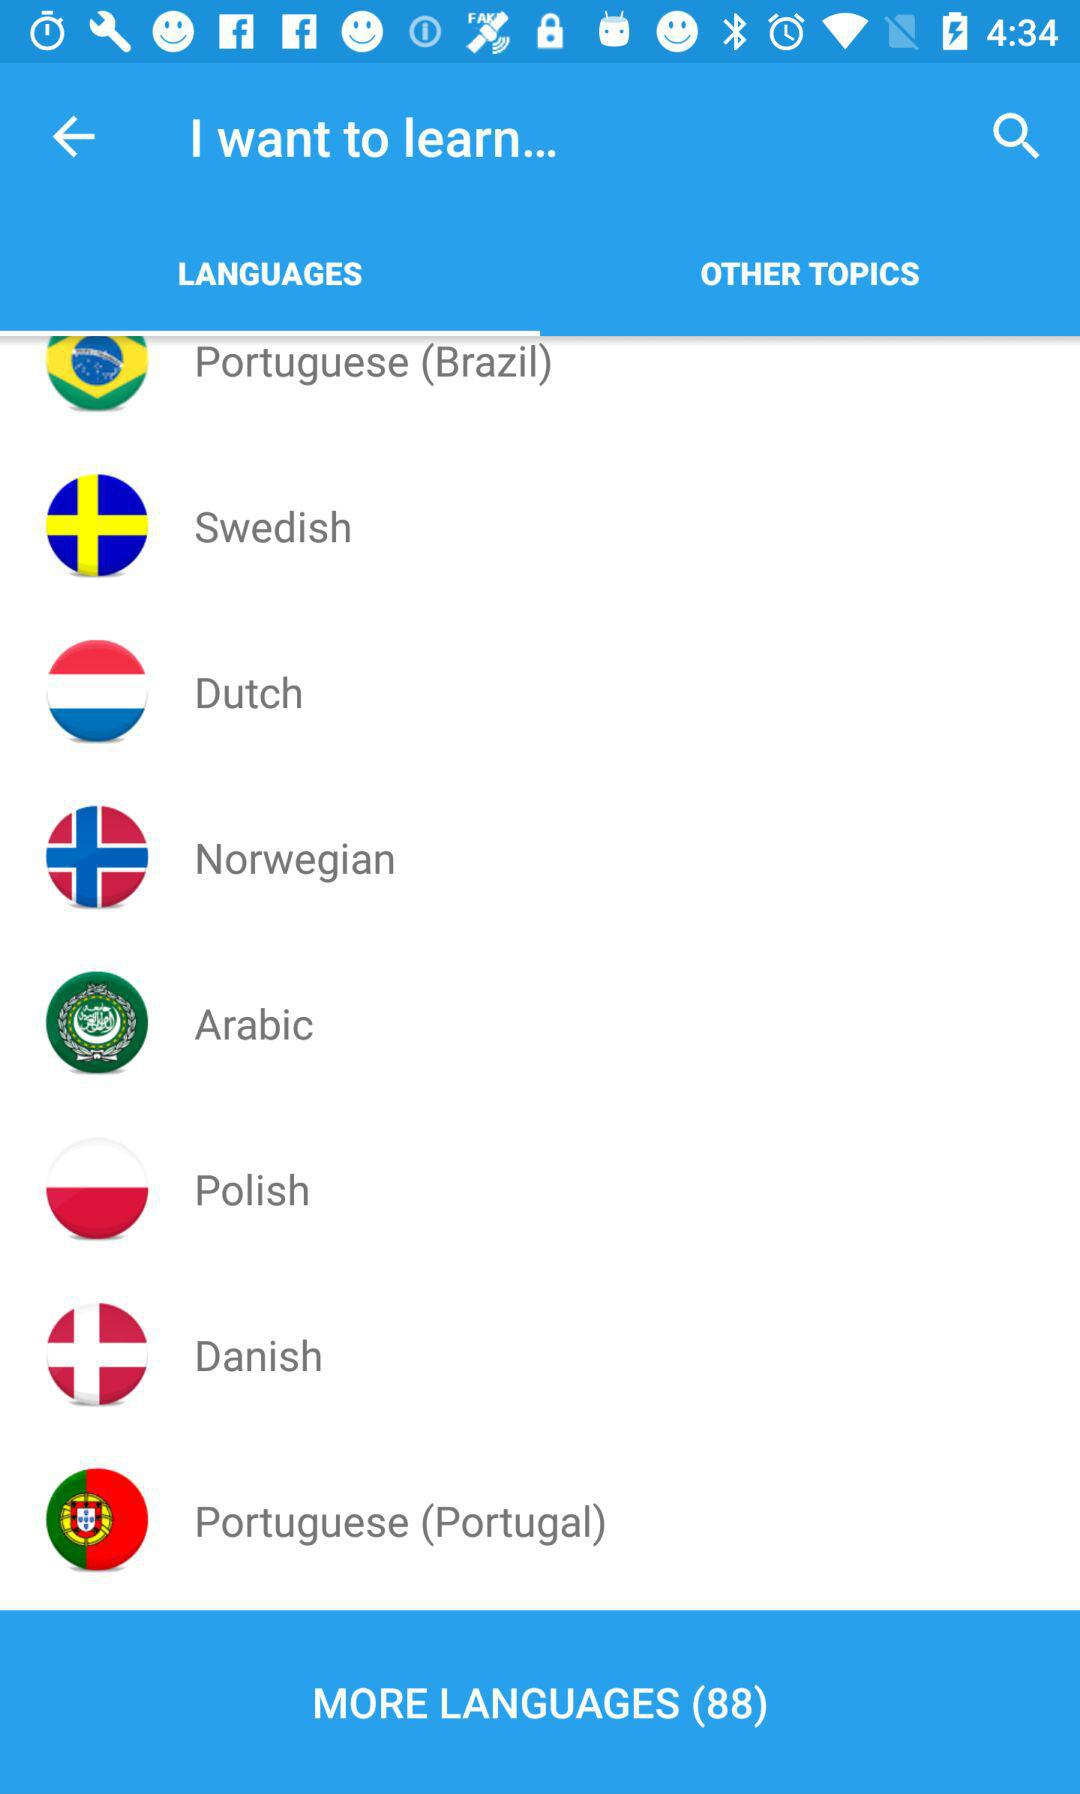Icon: (992, 111, 1042, 161), (53, 115, 97, 160)
Image: (45, 1137, 151, 1242), (45, 473, 149, 580), (45, 1467, 150, 1572), (45, 639, 150, 745), (46, 1301, 150, 1407), (45, 806, 150, 910), (45, 971, 149, 1075), (45, 337, 151, 414)
Text: (197, 1502, 606, 1547), (197, 342, 552, 388), (192, 117, 557, 160), (197, 842, 395, 884), (700, 261, 920, 288), (196, 510, 352, 545), (178, 261, 364, 288), (197, 1338, 323, 1372), (195, 1007, 314, 1042), (196, 1173, 309, 1208), (197, 677, 304, 711)
TextButton: (1, 1609, 1080, 1794)
UpperTaskBar: (1, 1, 1080, 64)
